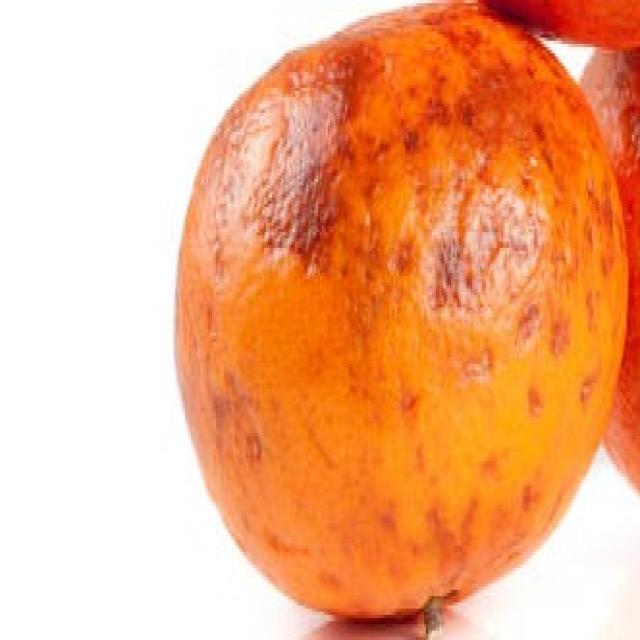overripe: (170, 0, 633, 640)
